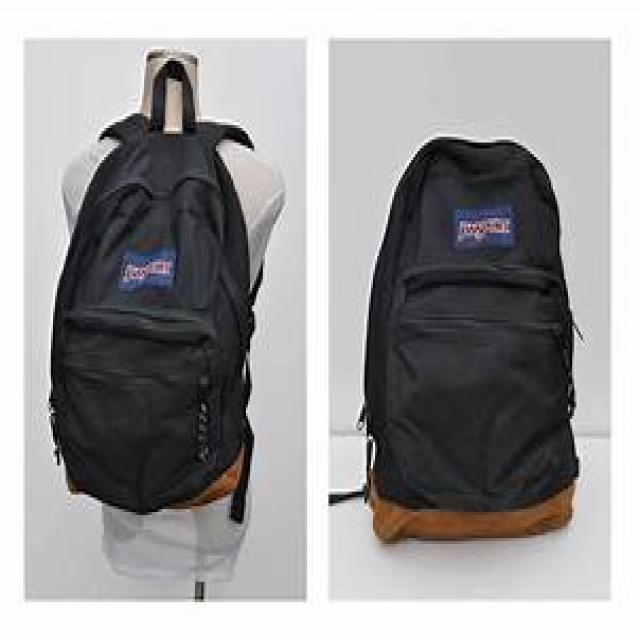backpack: (48, 48, 285, 522), (329, 135, 584, 542)
